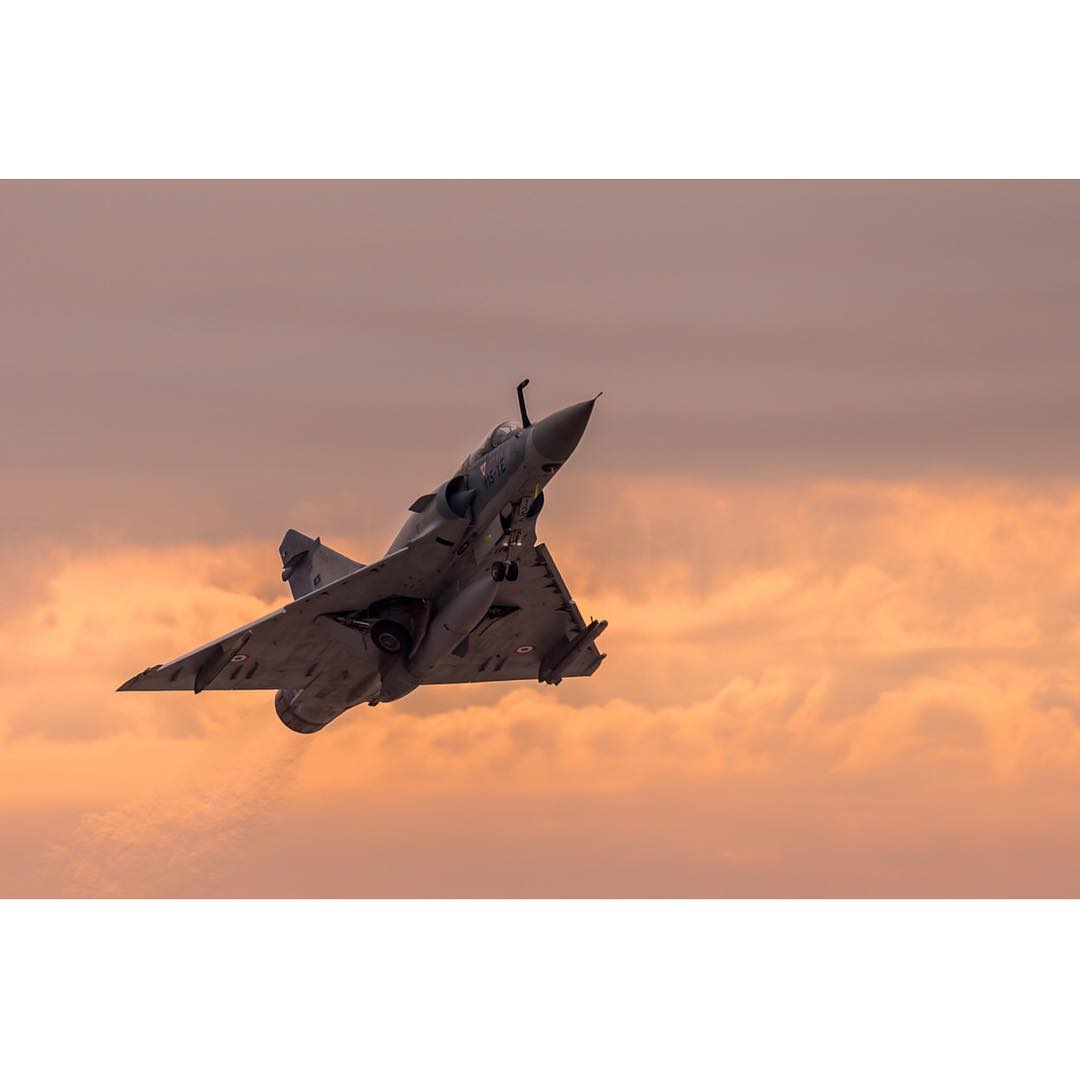Mirage2000: (114, 378, 608, 734)
